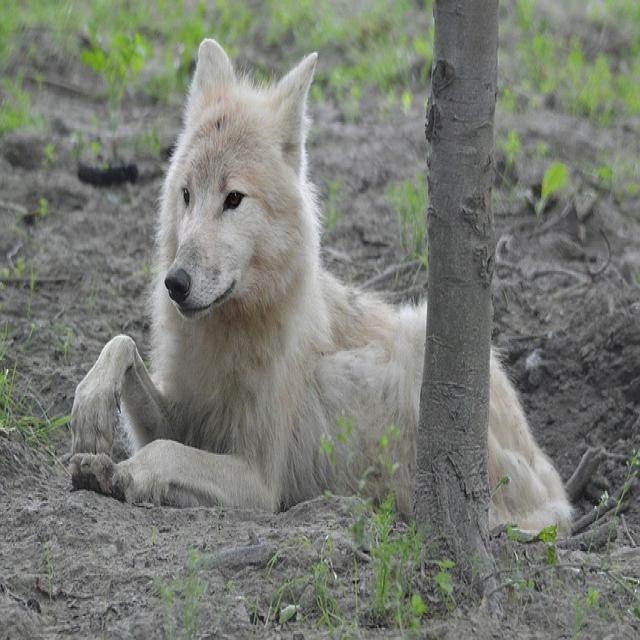Carnivorous: (69, 39, 428, 520), (487, 346, 574, 536)
